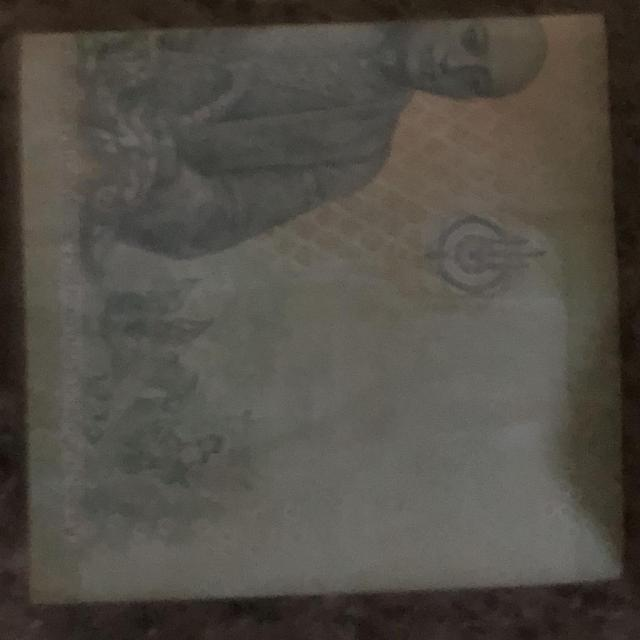THAI20: (18, 16, 621, 603)
